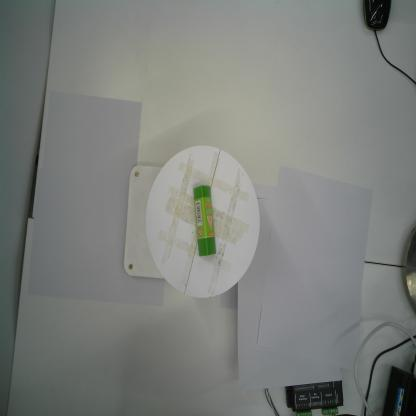Stationery: (193, 181, 219, 260)
